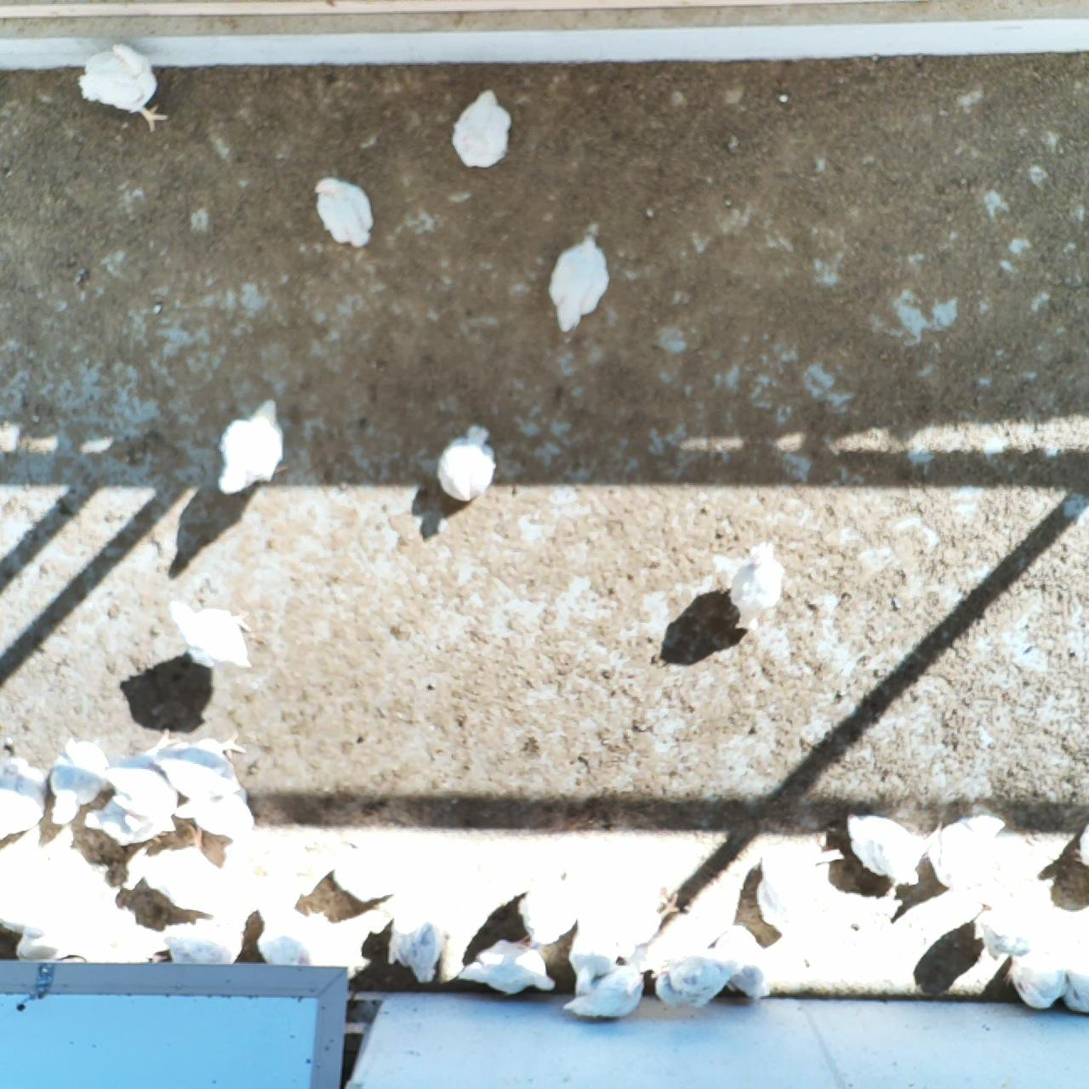chicken: (567, 880, 680, 997), (73, 38, 173, 135), (140, 824, 235, 916), (215, 394, 291, 498), (842, 808, 939, 887), (104, 727, 185, 818), (166, 595, 259, 674), (326, 827, 416, 906), (547, 232, 615, 336), (927, 811, 1010, 894), (151, 729, 250, 797), (453, 932, 555, 995), (430, 420, 500, 509), (48, 734, 114, 828), (446, 87, 518, 172), (724, 538, 788, 633), (157, 908, 251, 972), (513, 859, 582, 944), (258, 899, 338, 970), (384, 898, 448, 985), (563, 959, 651, 1022), (81, 791, 171, 852), (654, 946, 739, 1008), (1002, 932, 1067, 1013), (311, 176, 377, 253), (0, 862, 76, 927), (971, 889, 1035, 963), (192, 784, 262, 850), (0, 754, 51, 844), (714, 919, 770, 999), (15, 928, 86, 966), (1057, 945, 1089, 1013)
